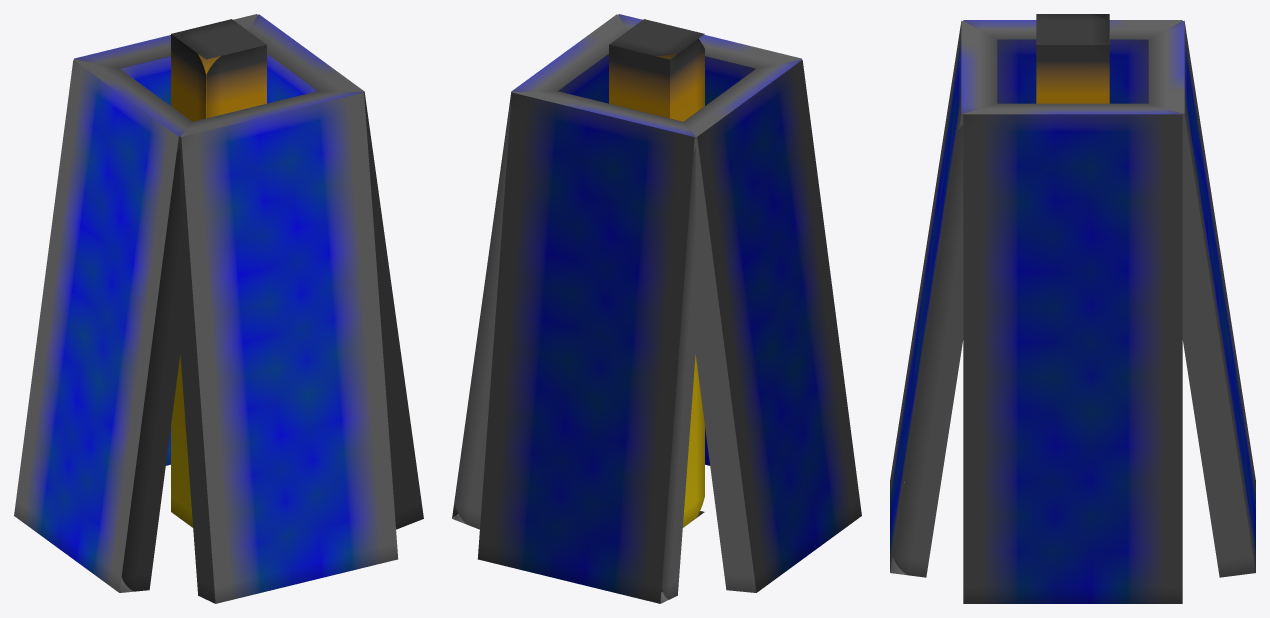
File: missile_head_conflag.obj
3 views of the same model, side by side, from view 1: azimuth 30°, elevation 25°; view 2: azimuth 150°, elevation 25°; view 3: azimuth 270°, elevation 25° (orthographic). The views are drawn at different scales.
Visible parts, largest first — view 1: Component_56, group_2; view 2: Component_56, group_2; view 3: Component_56, group_2.
Part boxes in pixels (x1,y1,x2,y2): Component_56: [14, 14, 423, 603]; group_2: [171, 19, 266, 527]; Component_56: [452, 14, 861, 603]; group_2: [609, 19, 704, 527]; Component_56: [890, 20, 1255, 603]; group_2: [1036, 14, 1109, 103].
Size of the model in its own units: 62.99 by 95.36 by 62.99.
